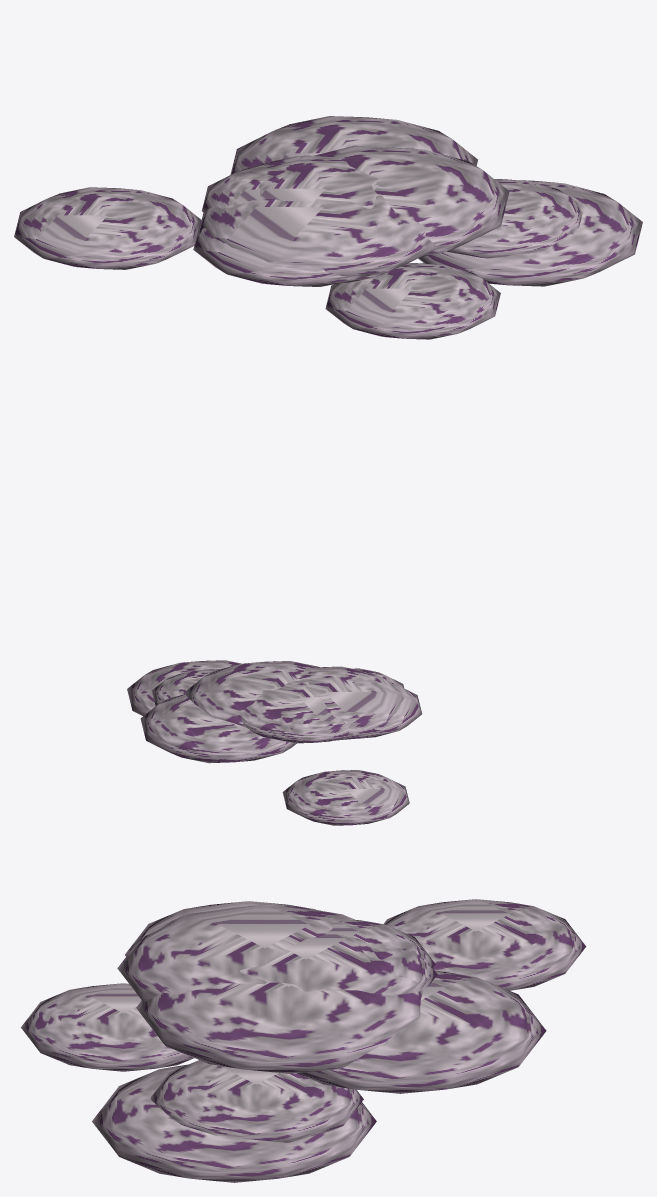
The model's file is rocklichenfruit.glb.
The picture shows the model from 3 angles, top to bottom: view 1: azimuth 30°, elevation 25°; view 2: azimuth 150°, elevation 25°; view 3: azimuth 270°, elevation 25°; orthographic projection. The views are drawn at different scales.
Visible parts, largest first — view 1: rocklichenfruit; view 2: rocklichenfruit; view 3: rocklichenfruit.
Part boxes in pixels (left/top/right/bottom): rocklichenfruit: left=14, top=116, right=642, bottom=339; rocklichenfruit: left=127, top=660, right=421, bottom=825; rocklichenfruit: left=21, top=899, right=585, bottom=1182.
Size of the model in its own units: 0.4314 by 0.1614 by 0.3129.
Materials: 1 (1 with a texture image).
